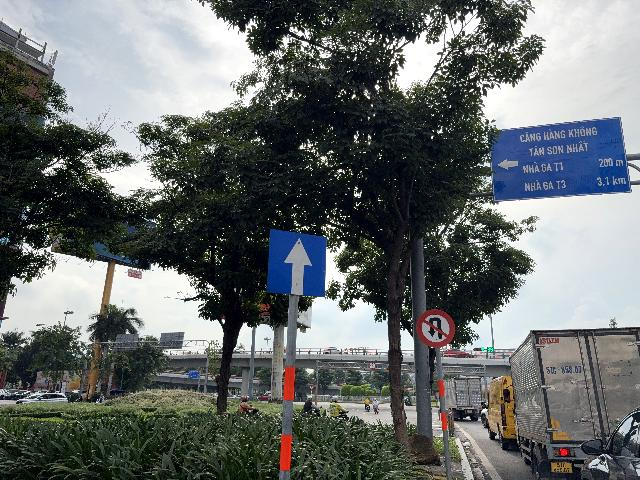cam-quay-dau-xe: (416, 309, 456, 348)
duong-mot-chieu: (266, 229, 327, 297)
